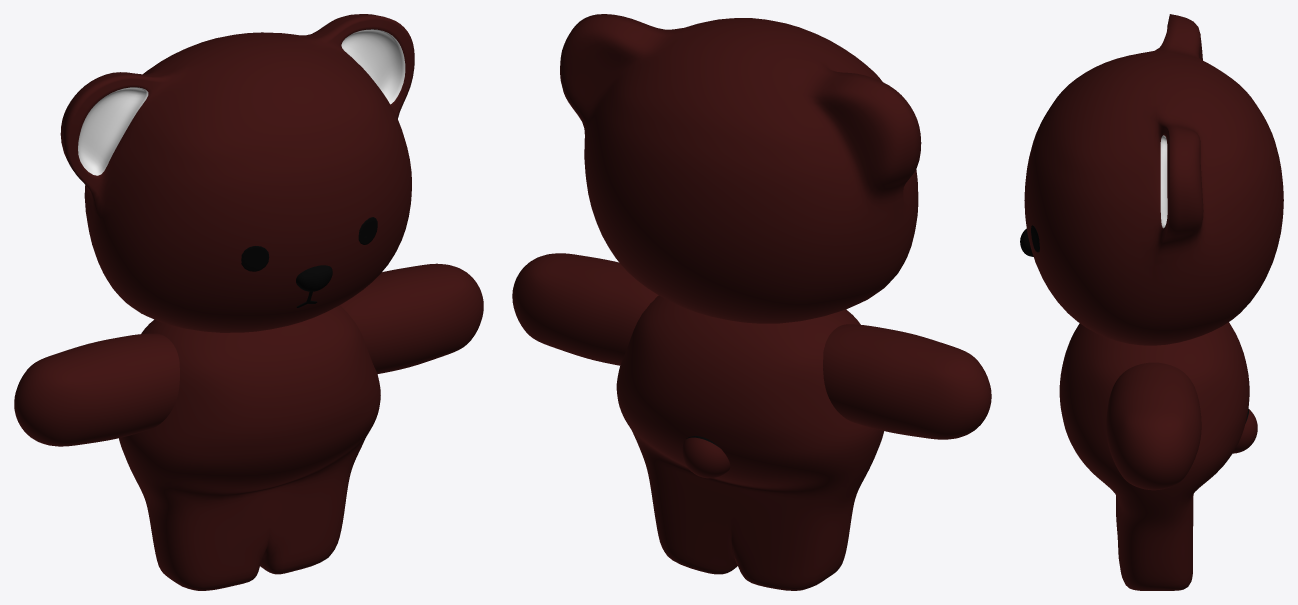
File: darkB Ear_B.fbx
3 renders of one model, left to right at view 1: azimuth 30°, elevation 25°; view 2: azimuth 150°, elevation 25°; view 3: azimuth 270°, elevation 25°, orthographic. The views are drawn at different scales.
Parts seen in each view (by area): view 1: darkB Ear_B; view 2: darkB Ear_B; view 3: darkB Ear_B.
Part boxes in pixels (bbox=[...]): darkB Ear_B: bbox=[14, 14, 483, 590]; darkB Ear_B: bbox=[512, 14, 991, 590]; darkB Ear_B: bbox=[1020, 14, 1283, 590].
Size of the model in its own units: 460 by 498 by 241.
